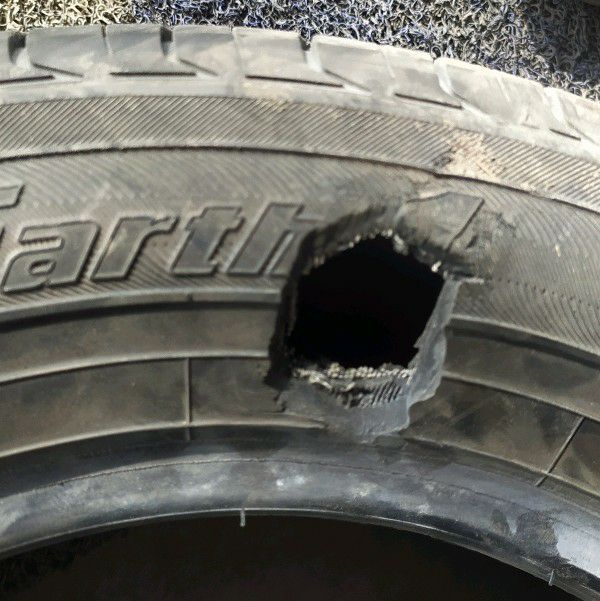bead_damage: (262, 190, 517, 440)
